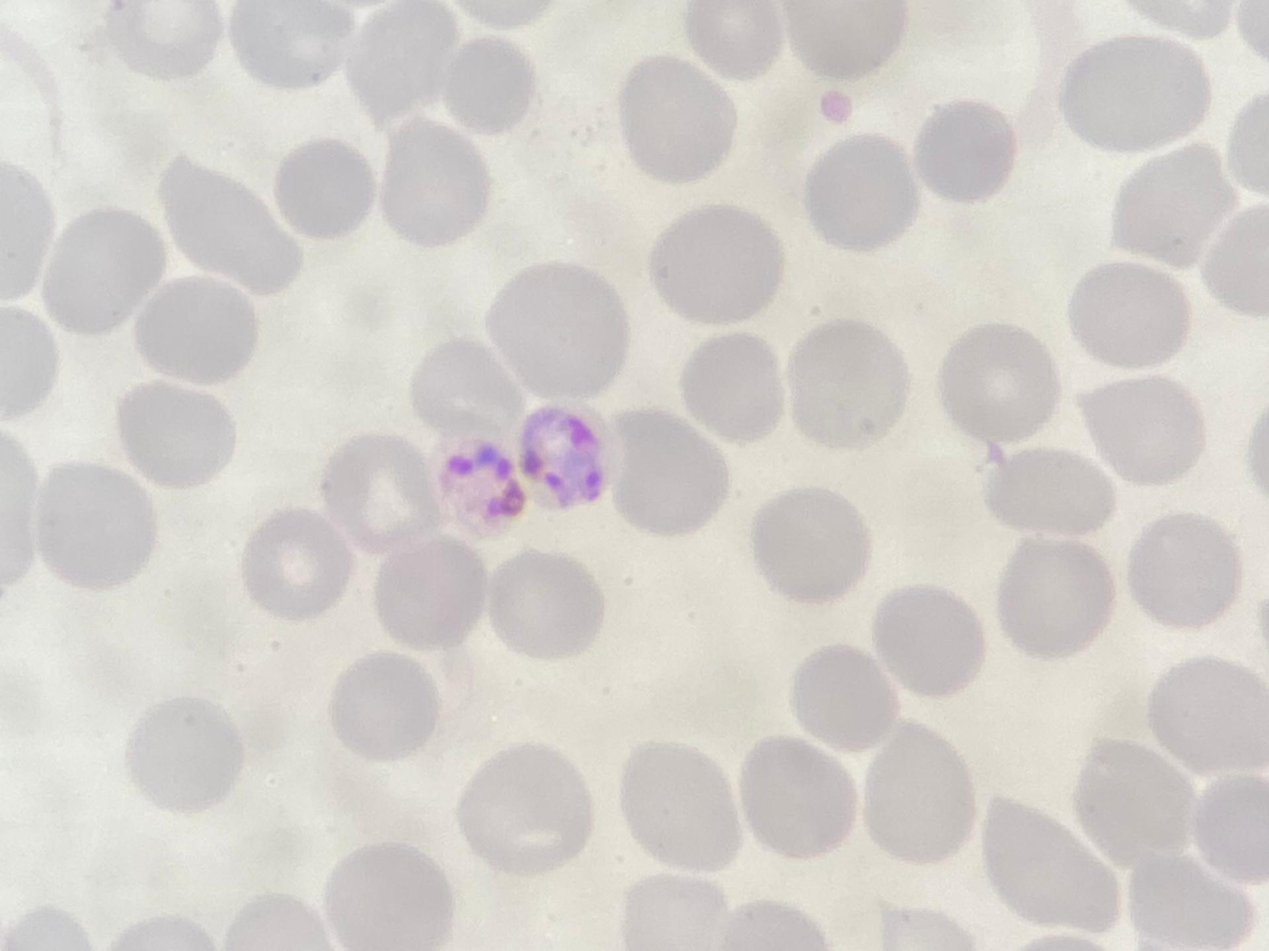Infected: (527, 397, 619, 514), (440, 435, 528, 538)
Uninfected: (983, 787, 1123, 931), (160, 156, 303, 295), (458, 736, 597, 879), (494, 265, 636, 397), (1061, 33, 1210, 154), (782, 319, 915, 452), (646, 202, 782, 328), (1109, 137, 1239, 265), (864, 722, 980, 864), (38, 456, 158, 592), (623, 737, 746, 868), (621, 53, 738, 188), (46, 209, 170, 336), (615, 410, 734, 539), (937, 326, 1063, 447), (1148, 653, 1269, 779), (739, 732, 858, 859), (134, 270, 264, 385), (382, 113, 495, 245), (317, 432, 444, 549), (752, 486, 876, 605), (322, 841, 454, 951), (998, 536, 1116, 658), (1079, 741, 1202, 857), (119, 375, 240, 492), (1125, 511, 1243, 629), (127, 696, 245, 814), (375, 536, 494, 653), (347, 4, 467, 119), (1082, 375, 1203, 488), (1067, 263, 1194, 369), (241, 503, 356, 619), (809, 129, 917, 251), (494, 549, 607, 662), (988, 443, 1121, 539), (790, 646, 906, 755), (679, 331, 788, 446), (326, 651, 441, 760), (410, 337, 527, 443), (872, 589, 985, 697), (915, 96, 1018, 201), (235, 0, 351, 93), (440, 33, 541, 135), (790, 0, 905, 81), (279, 139, 377, 232), (1190, 767, 1269, 874), (625, 879, 738, 951)
